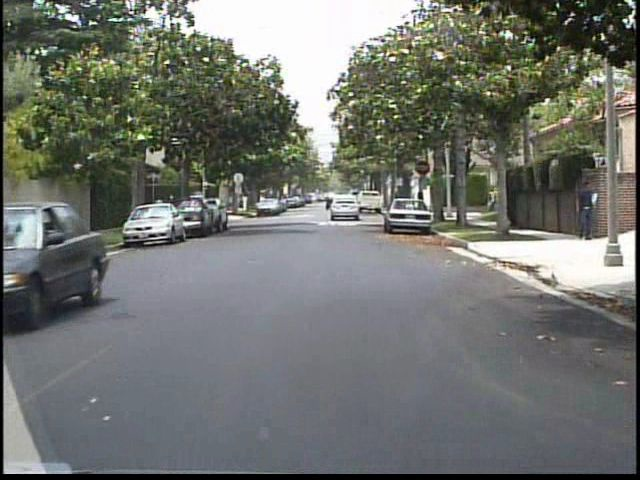person: (572, 177, 598, 245), (153, 192, 170, 230)
